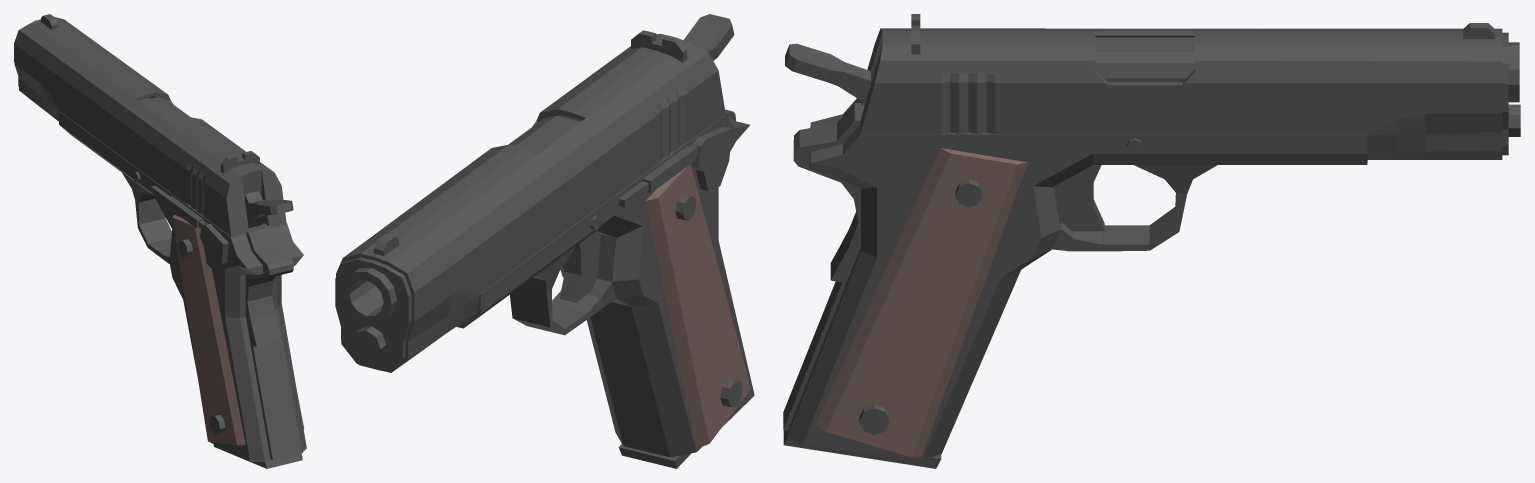
File: handgun_model.glb
3 renders of one model, left to right at view 1: azimuth 30°, elevation 25°; view 2: azimuth 150°, elevation 25°; view 3: azimuth 270°, elevation 25°, orthographic. The views are drawn at different scales.
Visible parts, largest first — view 1: Cube.001, Cube, Cube.007, Cube.006, Cube.008, Cube.010, Cube.009, Cube.003, Cylinder.001, Cube.011, Cube.013; view 2: Cube.001, Cube, Cube.007, Cube.005, Cube.002, Cube.004, Cube.010, Cube.009, Cube.008, Cube.003, Cylinder.001, Cube.011 (+2 smaller); view 3: Cube.001, Cube, Cube.007, Cube.006, Cube.003, Cube.008, Cube.004, Cylinder.001, Cube.013, Cube.005.
Part boxes in pixels (x1,y1,x2,y2): Cube.001: (14, 17, 286, 237); Cube: (59, 111, 306, 461); Cube.007: (172, 214, 304, 445); Cube.006: (245, 223, 297, 459); Cube.008: (245, 191, 293, 227); Cube.010: (200, 223, 228, 272); Cube.009: (150, 185, 206, 228); Cube.003: (139, 97, 189, 122); Cylinder.001: (133, 171, 225, 434); Cube.011: (220, 151, 259, 173); Cube.013: (213, 444, 302, 468); Cube.001: (336, 33, 725, 372); Cube: (456, 114, 754, 457); Cube.007: (645, 164, 750, 448); Cube.005: (335, 257, 411, 370); Cube.002: (341, 268, 396, 324); Cube.004: (559, 232, 601, 302); Cube.010: (690, 126, 732, 190); Cube.009: (618, 145, 698, 207); Cube.008: (684, 14, 734, 60); Cube.003: (508, 116, 580, 153); Cylinder.001: (590, 194, 742, 407); Cube.011: (631, 30, 687, 62); Cube.001: (860, 28, 1502, 159); Cube: (787, 98, 1367, 460); Cube.007: (816, 148, 1027, 457); Cube.006: (783, 103, 864, 430); Cube.003: (1095, 37, 1194, 81); Cube.008: (785, 43, 875, 106); Cube.004: (1054, 165, 1104, 231); Cylinder.001: (859, 138, 1142, 435); Cube.013: (783, 430, 941, 468); Cube.005: (1502, 32, 1508, 155).
Bounding box in the file's own units: 0.8819 × 3.13 × 4.85.
